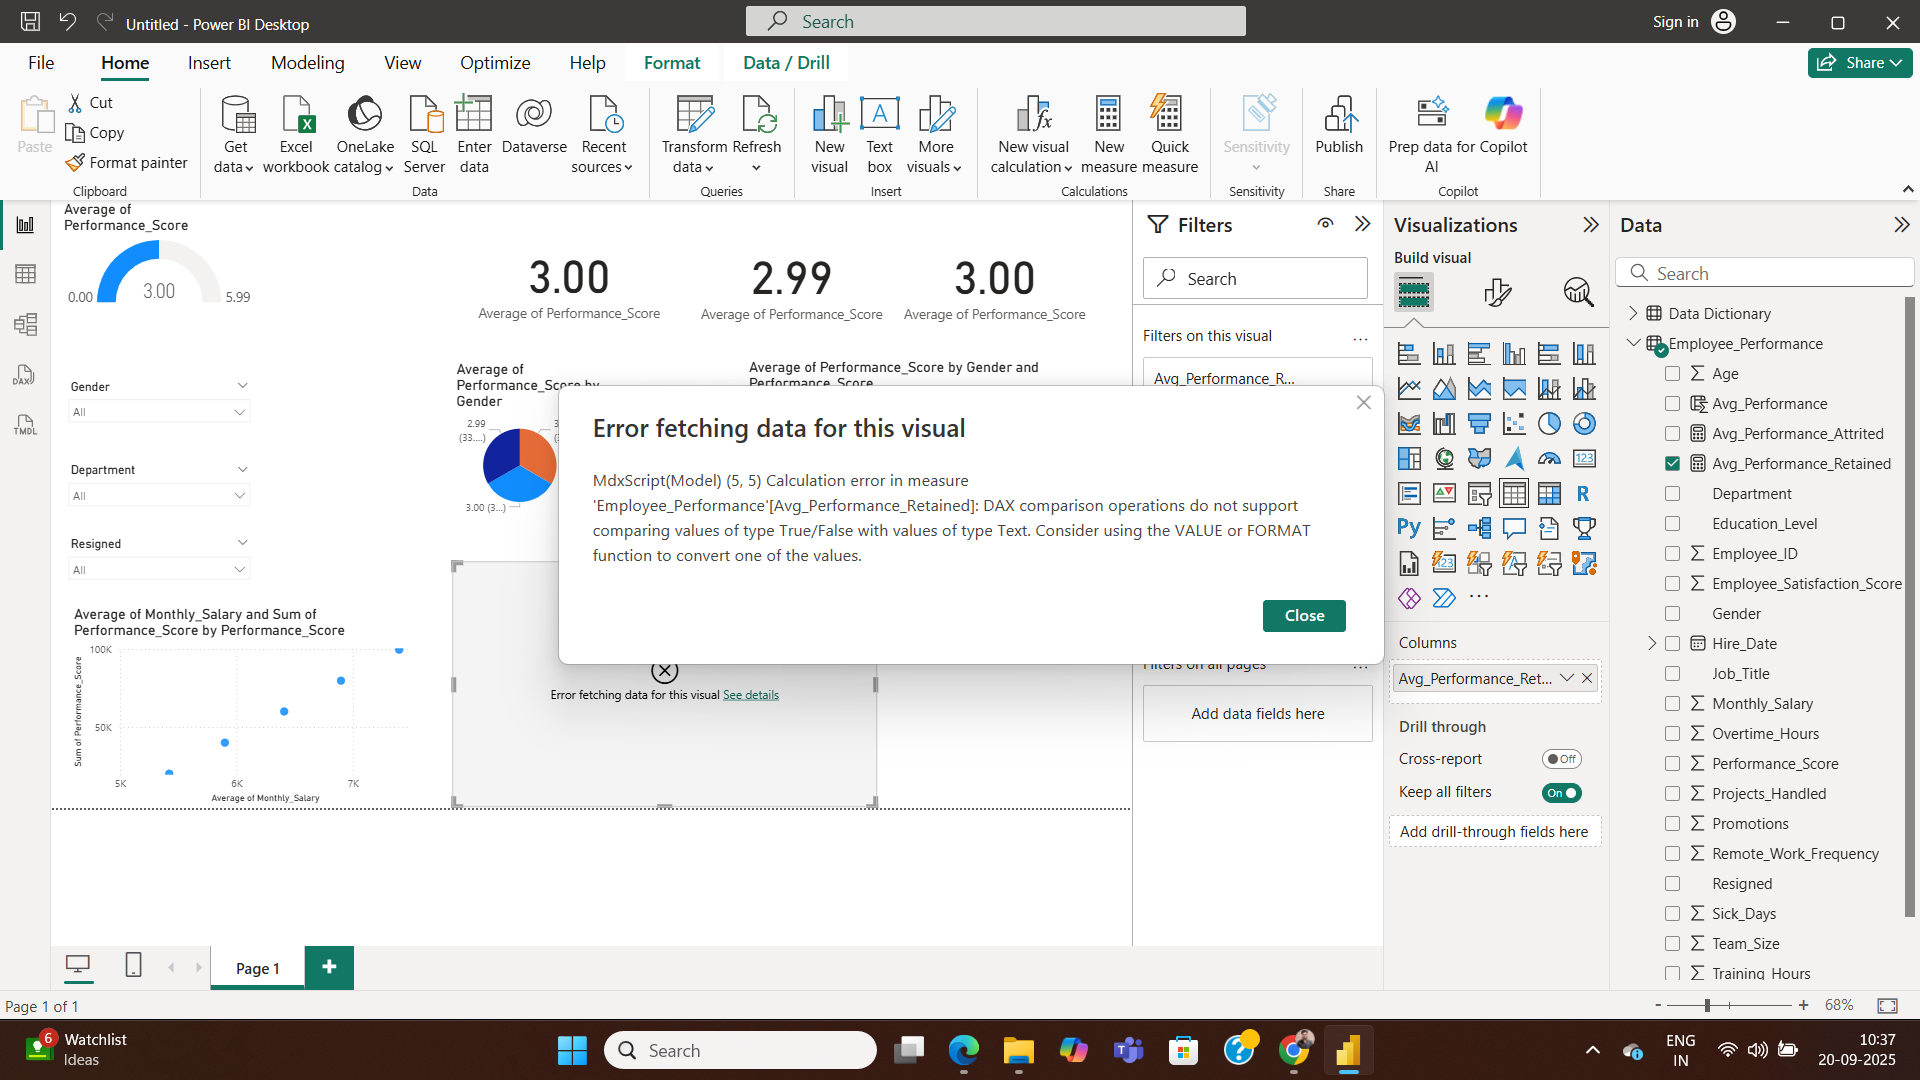

This screenshot's page, from the dashboard's own definition file:
{"tool":"powerbi","page":{"name":"Page 1","canvas":[1280,720],"ordinal":0},"visuals":[{"type":"gauge","fields":{"Y":["Avg(Employee_Performance.Performance_Score)"]},"box":[457.4,29.6,244.2,106.6],"z":0},{"type":"slicer","fields":{"Values":["Employee_Performance.Gender"]},"box":[5,29.7,130.1,106.6],"z":1},{"type":"slicer","fields":{"Values":["Employee_Performance.Department"]},"box":[149.5,29.6,136.2,106.6],"z":2},{"type":"slicer","fields":{"Values":["Employee_Performance.Resigned"]},"box":[300.5,28.1,137.7,108],"z":3},{"type":"card","fields":{"Values":["Avg(Employee_Performance.Performance_Score)"]},"box":[714.9,28.1,158.4,108],"z":4},{"type":"card","fields":{"Values":["Avg(Employee_Performance.Performance_Score)"]},"box":[891,29.6,182.1,106.6],"z":5},{"type":"card","fields":{"Values":["Avg(Employee_Performance.Performance_Score)"]},"box":[1092.3,29.6,176.1,106.6],"z":6},{"type":"hundredPercentStackedBarChart","title":"Total No of employees by gender and Performance_score","fields":{"Category":["Employee_Performance.Gender"],"Y":["CountNonNull(Employee_Performance.Performance_Score)"],"Series":["Employee_Performance.Performance_Score"]},"box":[457.3,157.4,810.5,223.1],"z":7},{"type":"pieChart","title":"Average of Performance_Score by Years group and Years_At_Company","fields":{"Y":["Avg(Employee_Performance.Performance_Score)"],"Category":["Employee_Performance.Gender"]},"box":[5,157.4,433.8,223.1],"z":8},{"type":"scatterChart","title":"Monthly salary wrt Performance Score","fields":{"Category":["Employee_Performance.Performance_Score"],"X":["Avg(Employee_Performance.Monthly_Salary)"],"Y":["Sum(Employee_Performance.Performance_Score)"]},"box":[5,399.1,435,304.9],"z":9},{"type":"lineChart","fields":{"Category":["Employee_Performance.Department"],"Y":["Employee_Performance.Avg_Performance_Attrited"],"Y2":["Employee_Performance.Avg_Performance_Retained"]},"box":[457,399,811,305],"z":10}]}

Visuals, with their boxes on the page's 1280x720 design canvas (x1, y1, x2, y2). These are canvas units, not pixel positions in the 1920x1080 screenshot, which may show the page scaled, cropped or inside an application window:
gauge - Avg(Employee_Performance.Performance_Score): detection(457, 30, 702, 136)
slicer - Employee_Performance.Gender: detection(5, 30, 135, 136)
slicer - Employee_Performance.Department: detection(150, 30, 286, 136)
slicer - Employee_Performance.Resigned: detection(300, 28, 438, 136)
card - Avg(Employee_Performance.Performance_Score): detection(715, 28, 873, 136)
card - Avg(Employee_Performance.Performance_Score): detection(891, 30, 1073, 136)
card - Avg(Employee_Performance.Performance_Score): detection(1092, 30, 1268, 136)
"Total No of employees by gender and Performance_score" hundredPercentStackedBarChart: detection(457, 157, 1268, 380)
"Average of Performance_Score by Years group and Years_At_Company" pieChart: detection(5, 157, 439, 380)
"Monthly salary wrt Performance Score" scatterChart: detection(5, 399, 440, 704)
lineChart - Employee_Performance.Department x Employee_Performance.Avg_Performance_Attrited: detection(457, 399, 1268, 704)
